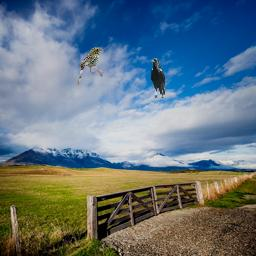Crow: (151, 58, 165, 98)
Sparrow: (76, 47, 103, 87)
